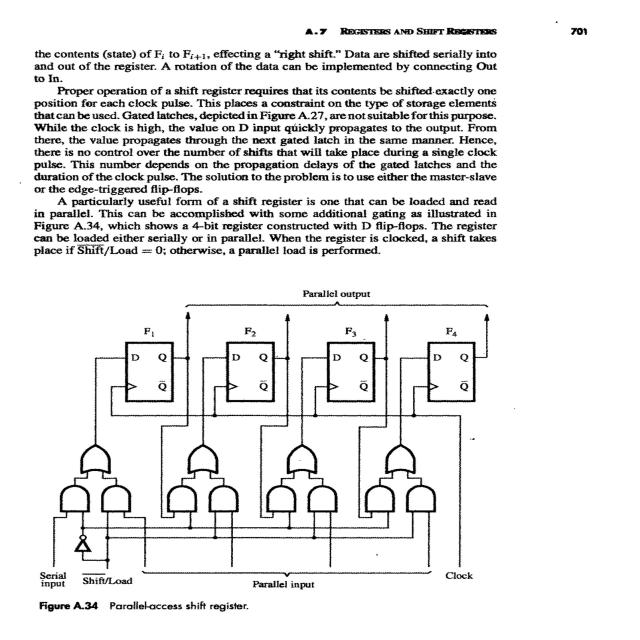diagram: (12, 276, 571, 640)
